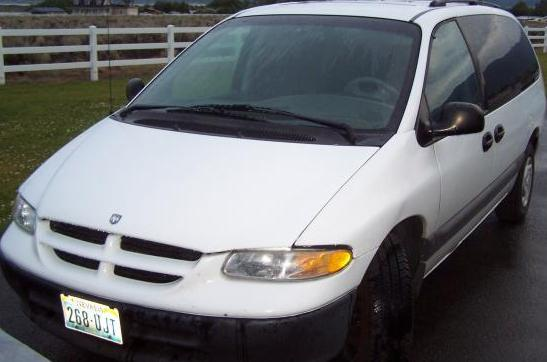front_view: (4, 185, 355, 350)
headlight: (222, 237, 357, 294)
side_glass: (413, 5, 534, 118)
